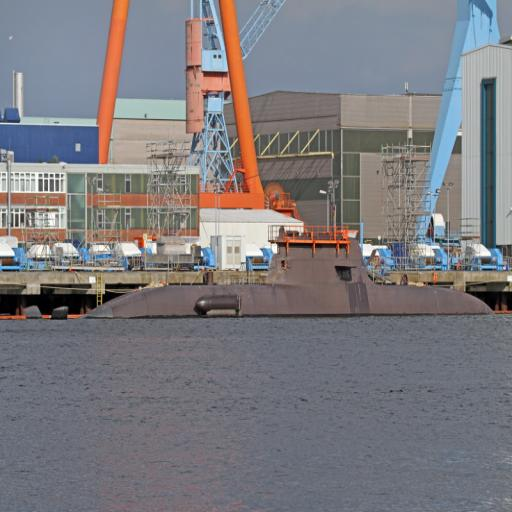submarine: (82, 234, 500, 320)
